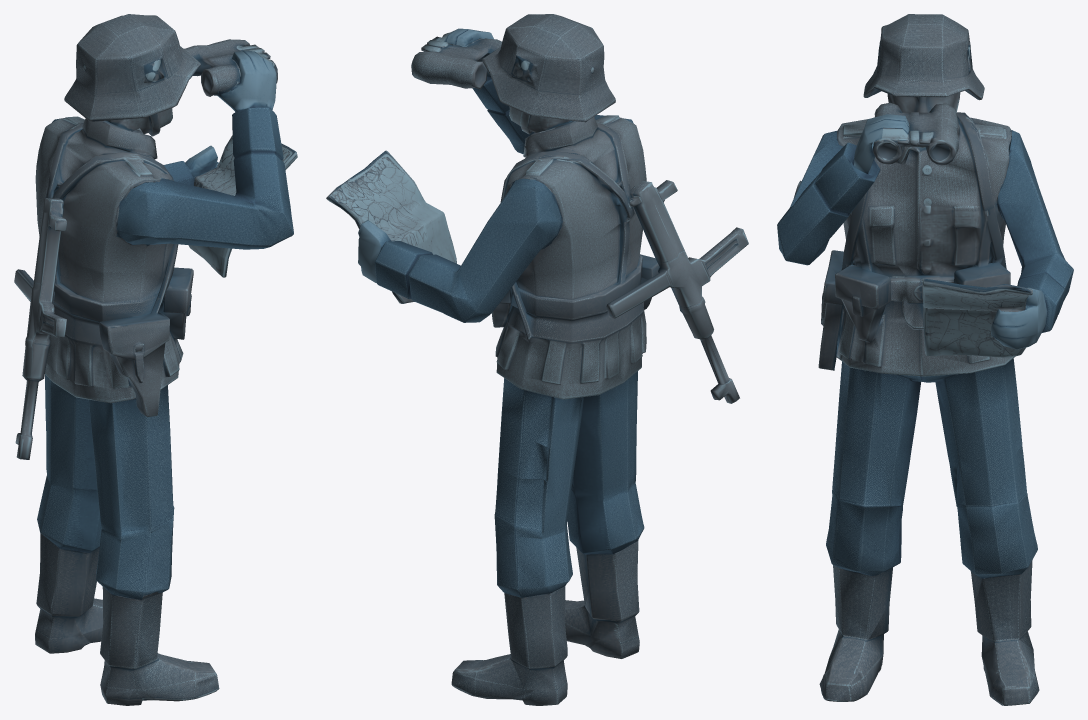
File: Scout.fbx
3 views of the same model, side by side, from view 1: azimuth 30°, elevation 25°; view 2: azimuth 150°, elevation 25°; view 3: azimuth 270°, elevation 25° (orthographic). The views are drawn at different scales.
Visible parts, largest first — view 1: tripo_part_0, tripo_part_2, tripo_part_4, tripo_part_3, tripo_part_8, tripo_part_9, tripo_part_6, tripo_part_5, tripo_part_10, tripo_part_7, tripo_part_1, tripo_part_11; view 2: tripo_part_0, tripo_part_9, tripo_part_1, tripo_part_3, tripo_part_4, tripo_part_5, tripo_part_6, tripo_part_7, tripo_part_8, tripo_part_10, tripo_part_2, tripo_part_11; view 3: tripo_part_0, tripo_part_9, tripo_part_4, tripo_part_1, tripo_part_2, tripo_part_3, tripo_part_8, tripo_part_6, tripo_part_7, tripo_part_10, tripo_part_11.
Boxes of the visible parts, x1,y1,x2,y2 form: tripo_part_0: (35, 116, 193, 416); tripo_part_2: (116, 50, 293, 249); tripo_part_4: (88, 385, 174, 599); tripo_part_3: (64, 14, 200, 121); tripo_part_8: (100, 587, 219, 705); tripo_part_9: (37, 374, 101, 552); tripo_part_6: (35, 533, 103, 653); tripo_part_5: (14, 198, 66, 459); tripo_part_10: (184, 39, 277, 96); tripo_part_7: (188, 135, 297, 277); tripo_part_1: (52, 118, 218, 185); tripo_part_11: (106, 108, 172, 136); tripo_part_0: (491, 115, 659, 399); tripo_part_9: (494, 378, 584, 597); tripo_part_1: (358, 178, 562, 322); tripo_part_3: (482, 14, 615, 122); tripo_part_4: (567, 371, 644, 554); tripo_part_5: (606, 180, 748, 403); tripo_part_6: (451, 586, 567, 705); tripo_part_7: (326, 150, 456, 303); tripo_part_8: (565, 540, 639, 658); tripo_part_10: (411, 29, 501, 89); tripo_part_2: (444, 28, 633, 154); tripo_part_11: (509, 106, 572, 134); tripo_part_0: (818, 112, 1015, 376); tripo_part_9: (920, 358, 1037, 578); tripo_part_4: (826, 361, 924, 575); tripo_part_1: (991, 130, 1073, 349); tripo_part_2: (777, 114, 909, 265); tripo_part_3: (863, 14, 984, 100); tripo_part_8: (819, 565, 892, 701); tripo_part_6: (970, 560, 1039, 705); tripo_part_7: (922, 278, 1032, 357); tripo_part_10: (872, 102, 958, 165); tripo_part_11: (887, 92, 960, 148).
Size of the model in its own units: 0.6893 by 0.8908 by 1.7.
12 materials, 12 textured.
